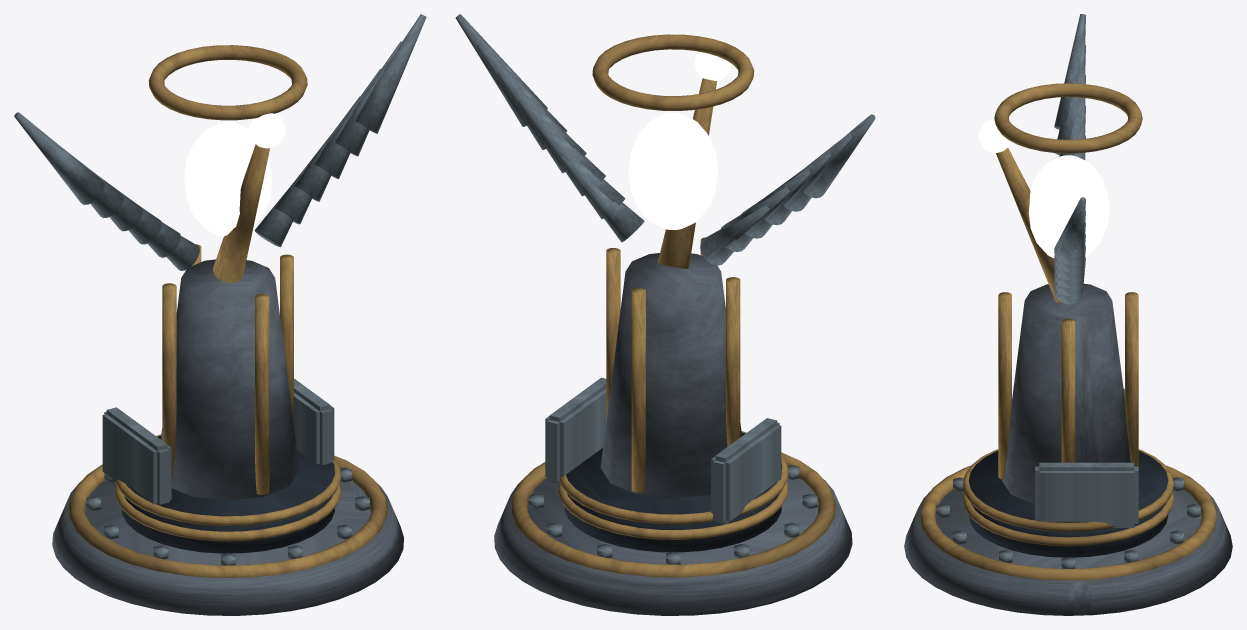
File: tower_skyguard_2.glb
3 renders of one model, left to right at view 1: azimuth 30°, elevation 25°; view 2: azimuth 150°, elevation 25°; view 3: azimuth 270°, elevation 25°, orthographic. The views are drawn at different scales.
Visible parts, largest first — view 1: Weathered_granite, Antique_brass, Weathered_blue_steel.001, Weathered_blue_steel, Antique_brass.001, Forged_black_iron, Lantern_flame; view 2: Weathered_granite, Antique_brass, Weathered_blue_steel.001, Weathered_blue_steel, Lantern_flame, Antique_brass.001, Forged_black_iron; view 3: Weathered_granite, Antique_brass, Weathered_blue_steel, Forged_black_iron, Antique_brass.001, Lantern_flame, Weathered_blue_steel.001.
Part boxes in pixels (x1=…): Weathered_granite: x1=52, y1=259, x2=403, y2=615; Antique_brass: x1=68, y1=244, x2=387, y2=577; Weathered_blue_steel.001: x1=14, y1=14, x2=426, y2=270; Weathered_blue_steel: x1=86, y1=378, x2=369, y2=565; Antique_brass.001: x1=148, y1=45, x2=307, y2=282; Forged_black_iron: x1=121, y1=435, x2=334, y2=553; Lantern_flame: x1=184, y1=113, x2=285, y2=236; Weathered_granite: x1=494, y1=253, x2=852, y2=615; Antique_brass: x1=511, y1=237, x2=835, y2=577; Weathered_blue_steel.001: x1=455, y1=14, x2=875, y2=265; Weathered_blue_steel: x1=529, y1=377, x2=817, y2=564; Lantern_flame: x1=628, y1=51, x2=731, y2=230; Antique_brass.001: x1=592, y1=34, x2=754, y2=268; Forged_black_iron: x1=564, y1=432, x2=781, y2=552; Weathered_granite: x1=904, y1=283, x2=1232, y2=615; Antique_brass: x1=919, y1=292, x2=1217, y2=580; Weathered_blue_steel: x1=936, y1=388, x2=1200, y2=568; Forged_black_iron: x1=968, y1=450, x2=1168, y2=557; Antique_brass.001: x1=994, y1=83, x2=1142, y2=302; Lantern_flame: x1=978, y1=119, x2=1109, y2=258; Weathered_blue_steel.001: x1=1054, y1=14, x2=1085, y2=304.
Bounding box in the file's own units: 3.64 × 4 × 2.7.
5 materials, 4 textured.
